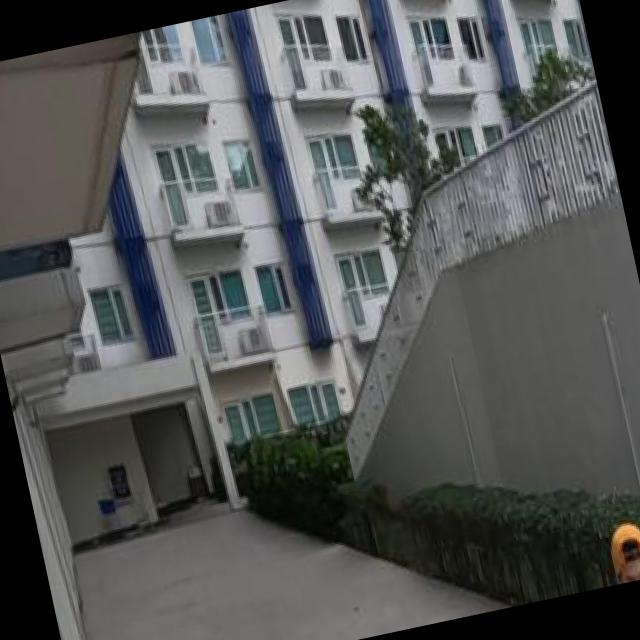Guns: (621, 565, 640, 582)
